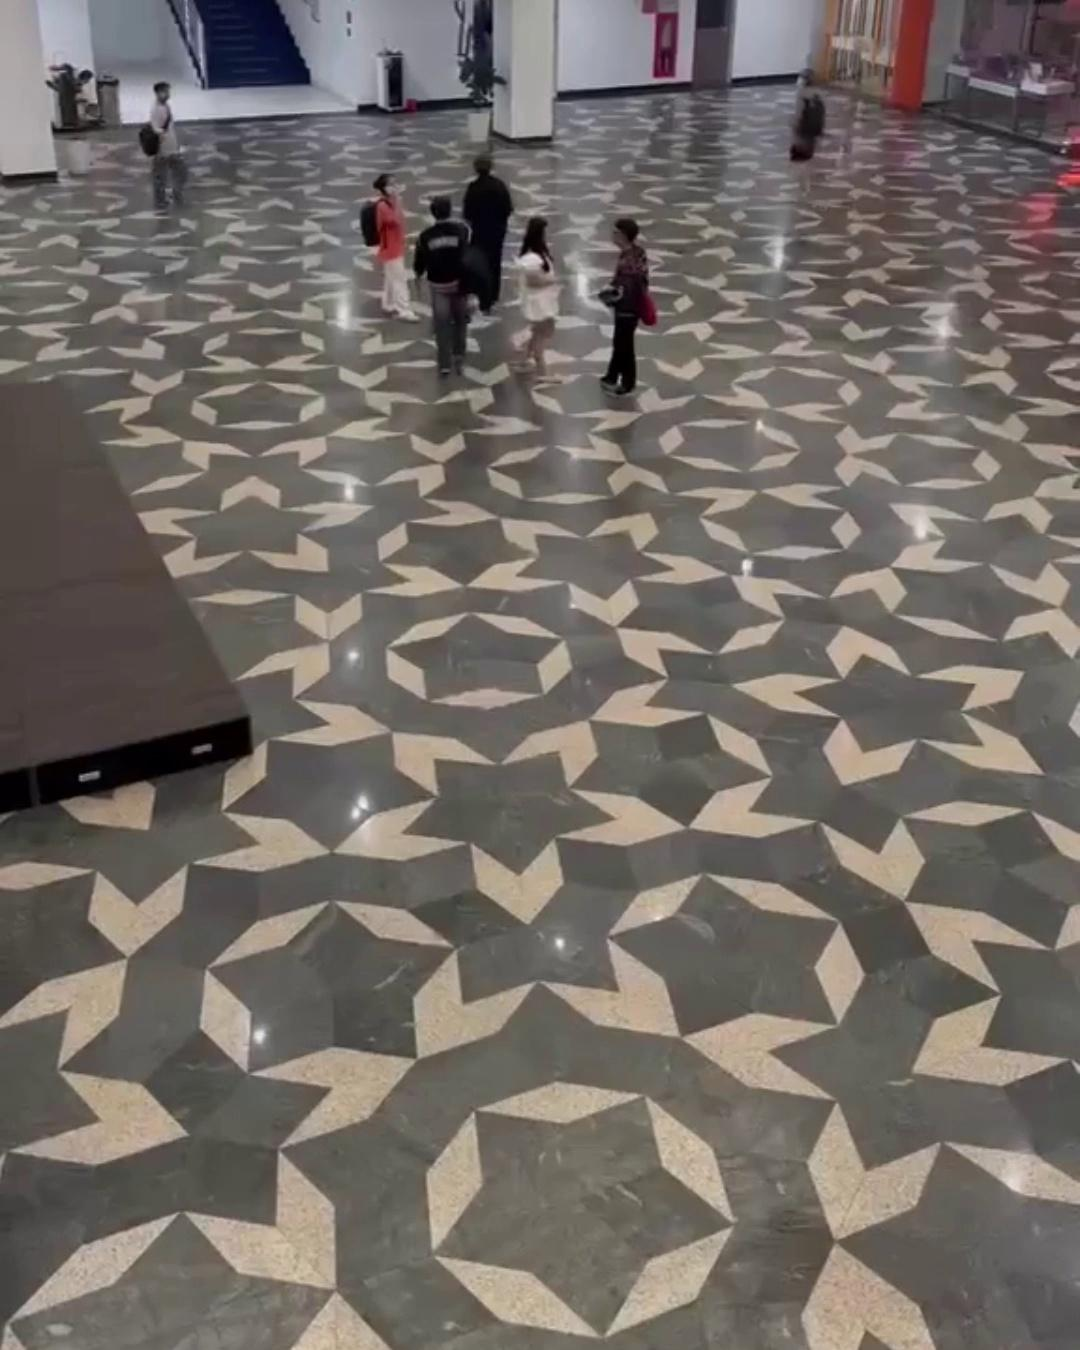your_class: (413, 195, 473, 377), (598, 218, 657, 398), (359, 173, 419, 323), (512, 218, 563, 382), (462, 152, 512, 314), (139, 80, 187, 210), (787, 69, 828, 202)
